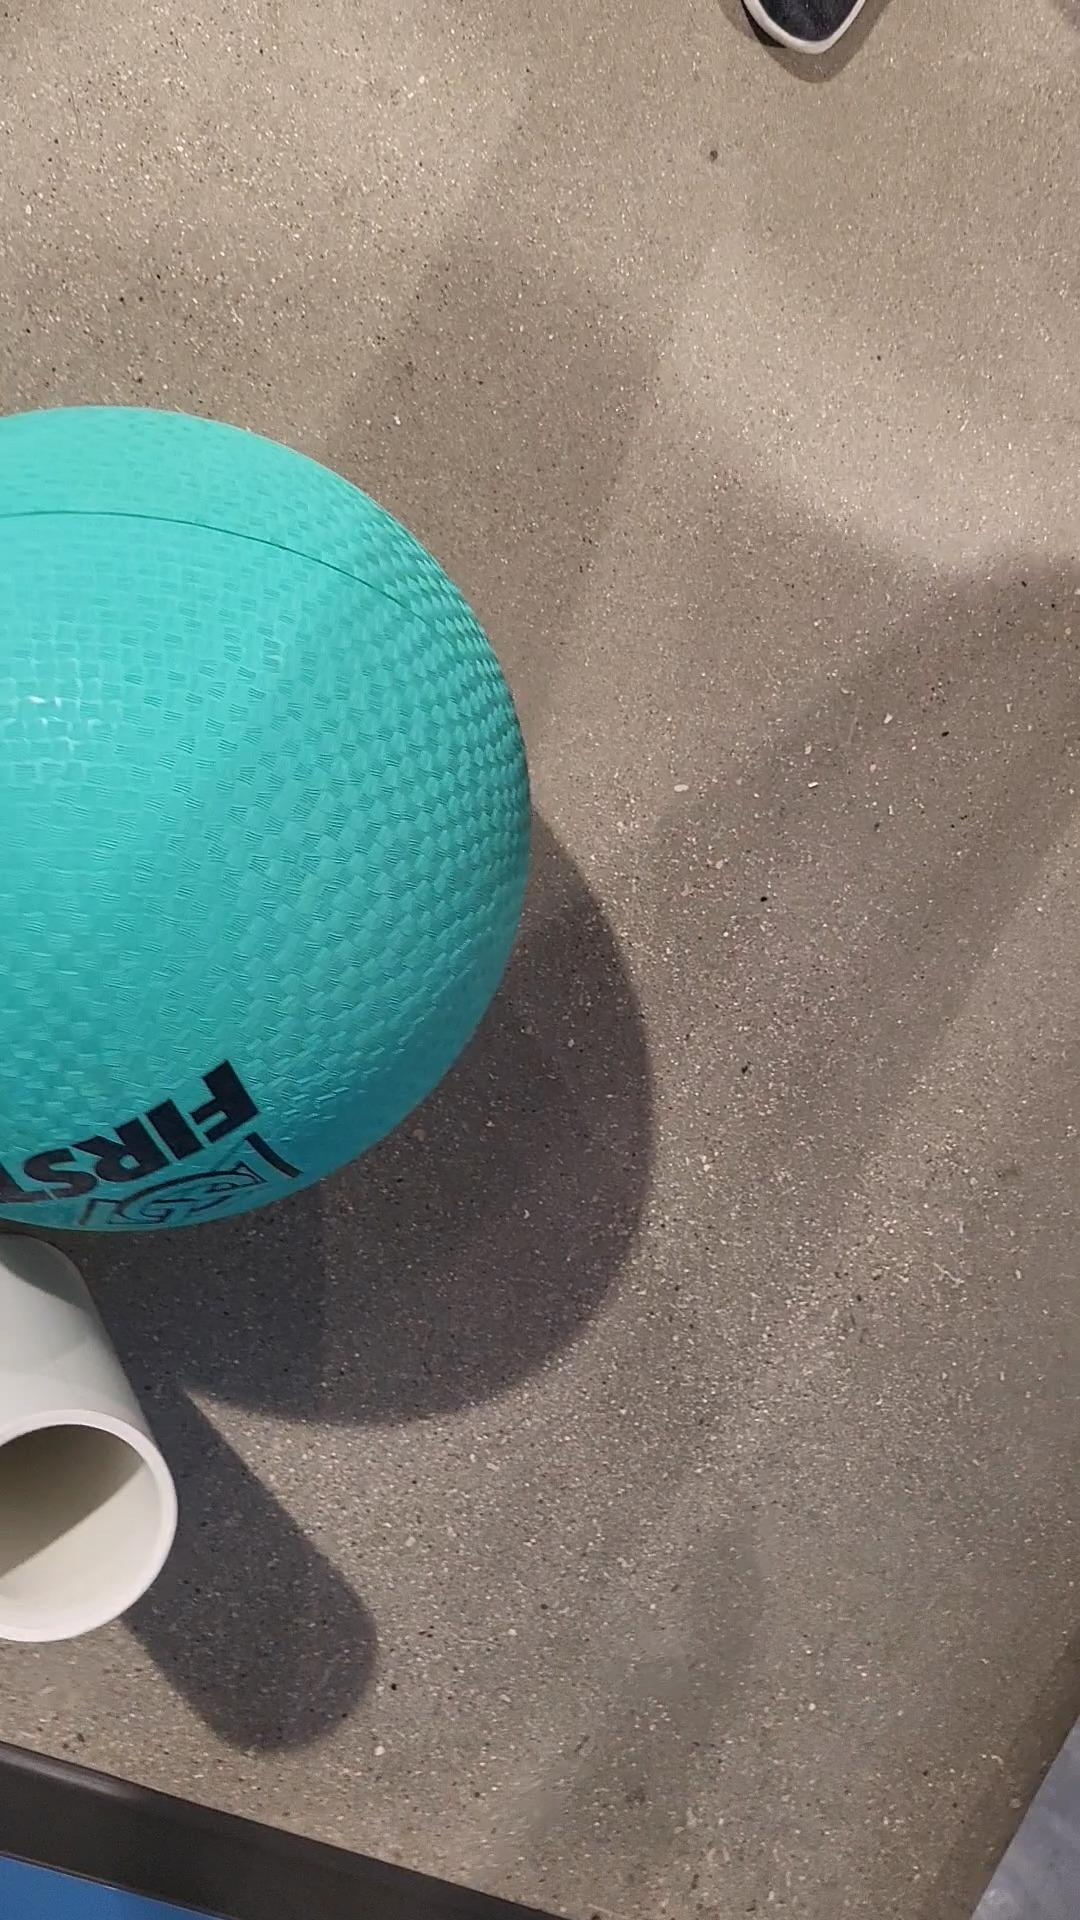algae: (0, 390, 543, 1237)
coral: (0, 1221, 187, 1663)
